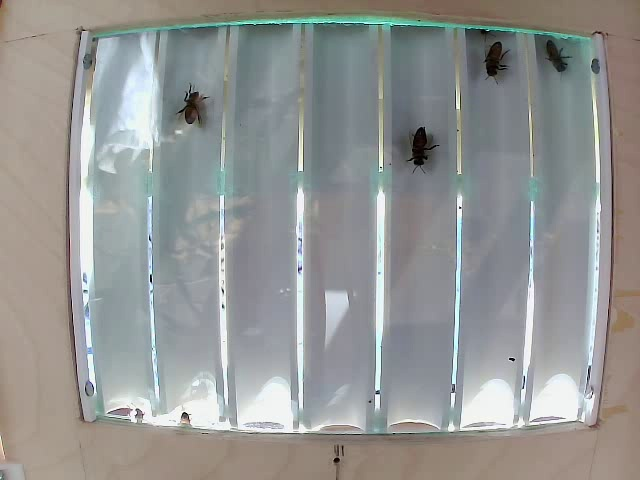bee: (398, 123, 439, 177), (170, 98, 236, 120), (483, 38, 506, 68)
